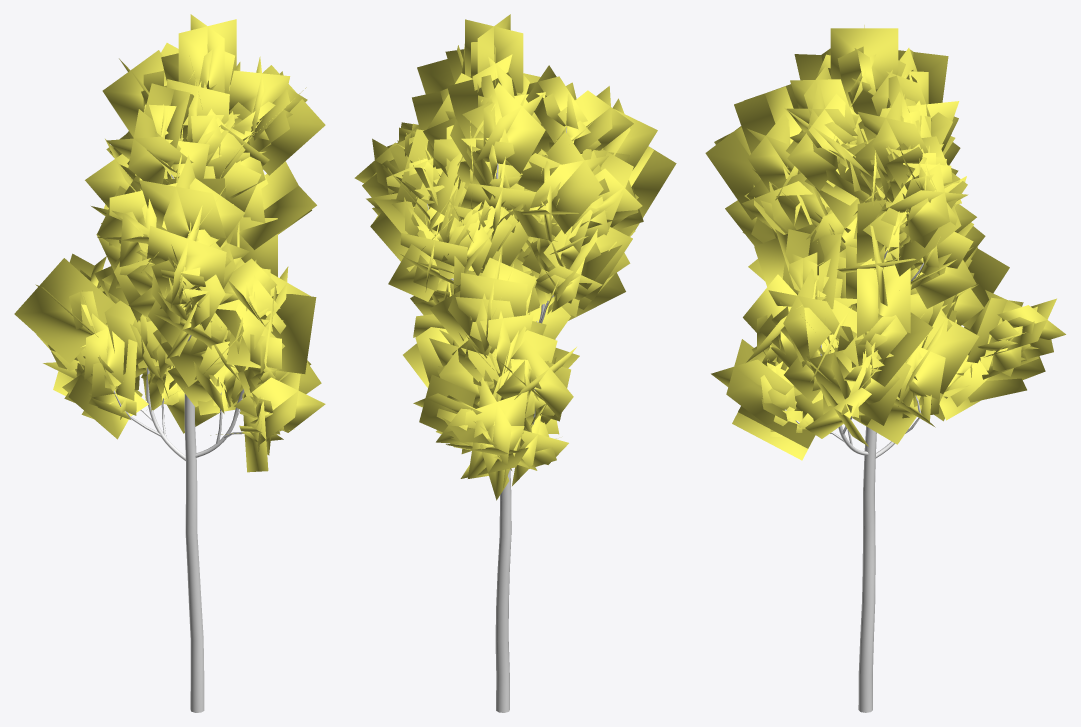
File: aspen_small_v0_lod0.glb
3 views of the same model, side by side, from view 1: azimuth 30°, elevation 25°; view 2: azimuth 150°, elevation 25°; view 3: azimuth 270°, elevation 25° (orthographic).
Visible parts, largest first — view 1: Leaves, Branches; view 2: Leaves, Branches; view 3: Leaves, Branches.
Boxes of the visible parts, x1,y1,x2,y2 form: Leaves: [14, 14, 325, 472]; Branches: [113, 174, 244, 712]; Leaves: [354, 14, 676, 500]; Branches: [427, 127, 566, 712]; Leaves: [705, 25, 1065, 460]; Branches: [785, 250, 923, 712].
Size of the model in its own units: 14.63 by 38.24 by 18.24.
